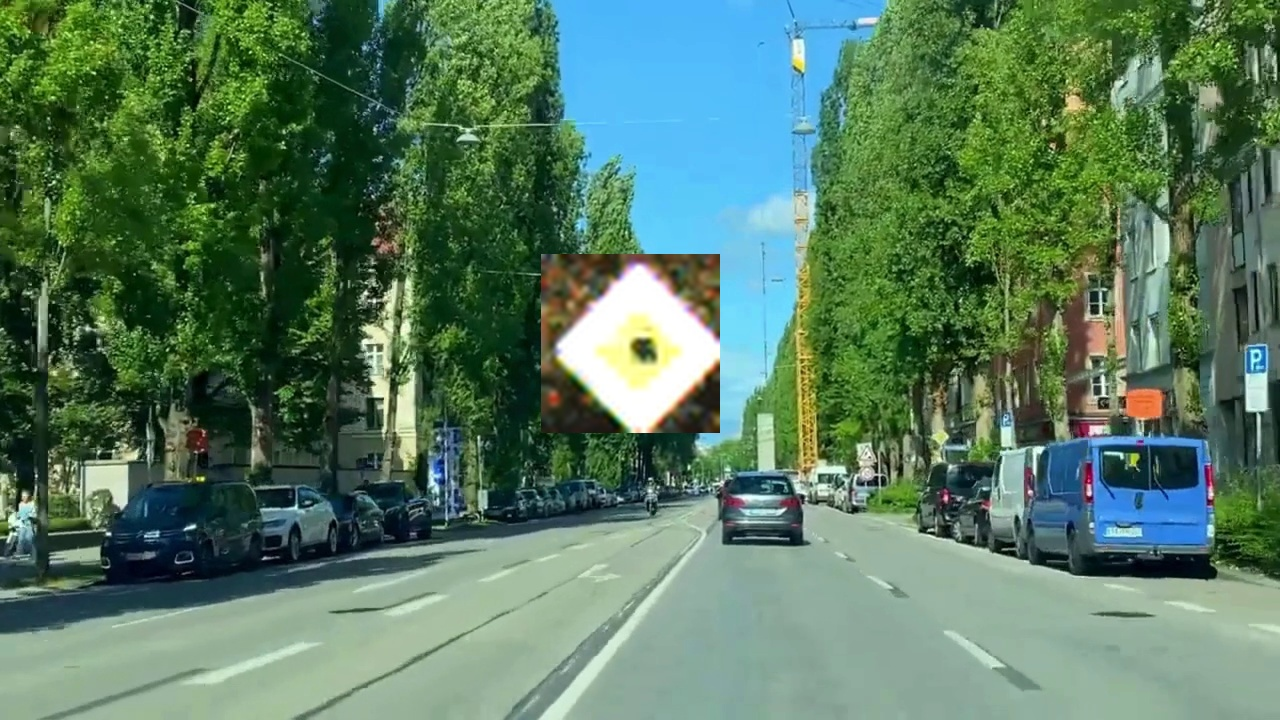Priority road: (541, 254, 720, 433)
